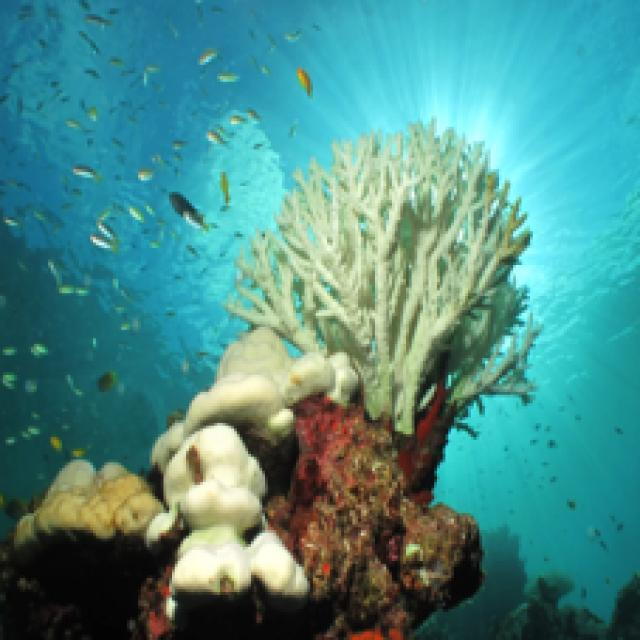Bleached: (229, 125, 540, 435), (165, 427, 305, 596), (187, 328, 334, 435), (35, 463, 162, 537)
